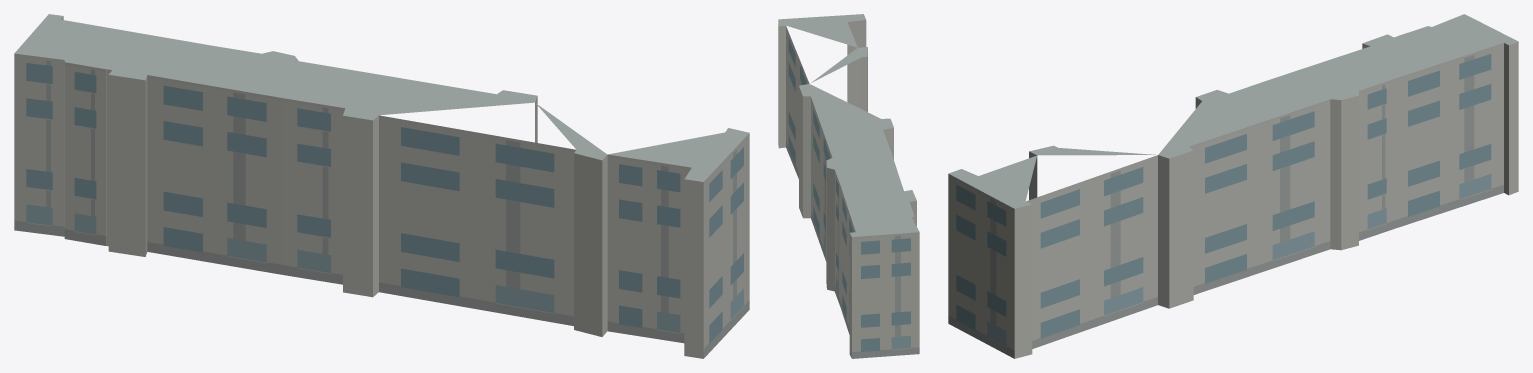
File: survey-upis-32505779.glb
3 renders of one model, left to right at view 1: azimuth 30°, elevation 25°; view 2: azimuth 150°, elevation 25°; view 3: azimuth 270°, elevation 25°, orthographic. The views are drawn at different scales.
Visible parts, largest first — view 1: survey-upis-32505779.tmp; view 2: survey-upis-32505779.tmp; view 3: survey-upis-32505779.tmp.
Boxes of the visible parts, x1,y1,x2,y2 form: survey-upis-32505779.tmp: (14, 14, 749, 358); survey-upis-32505779.tmp: (778, 14, 919, 358); survey-upis-32505779.tmp: (948, 14, 1518, 358).
Bounding box in the file's own units: 42.47 × 15.25 × 52.53.
